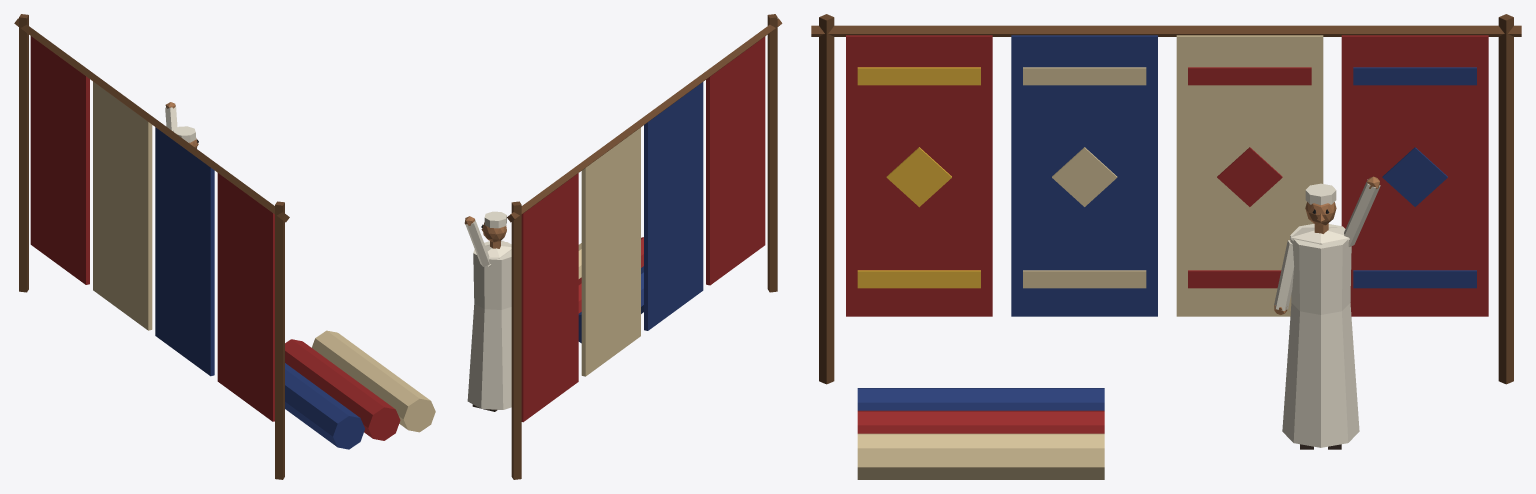
Rendered from mattforsaljare.glb.
3 views of the same model, side by side, from view 1: azimuth 30°, elevation 25°; view 2: azimuth 150°, elevation 25°; view 3: azimuth 270°, elevation 25° (orthographic). The views are drawn at different scales.
Parts seen in each view (by area): view 1: mattforsaljare; view 2: mattforsaljare; view 3: mattforsaljare.
Part boxes in pixels (box(x1,y1,x2,y2)): mattforsaljare: box(14, 14, 435, 479); mattforsaljare: box(464, 14, 782, 479); mattforsaljare: box(811, 14, 1521, 479).
Bounding box in the file's own units: 1.71 × 2.6 × 4.6.
